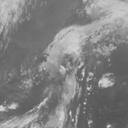cyclone: (44, 25, 89, 70)
